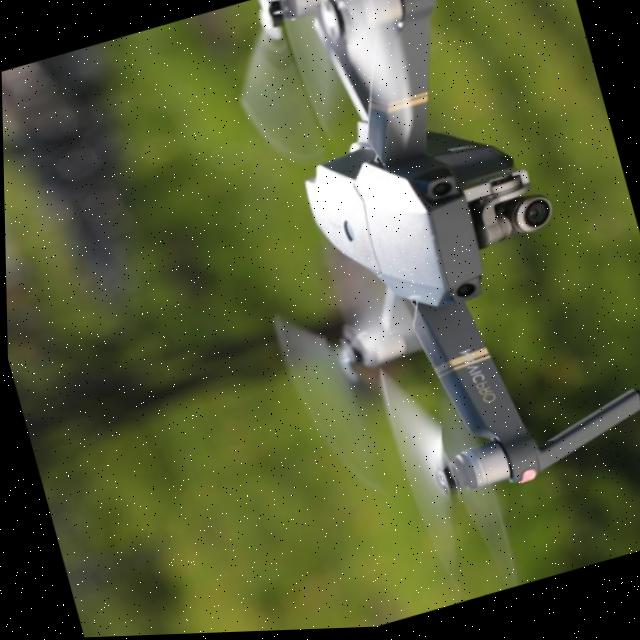drones: (132, 0, 640, 636)
